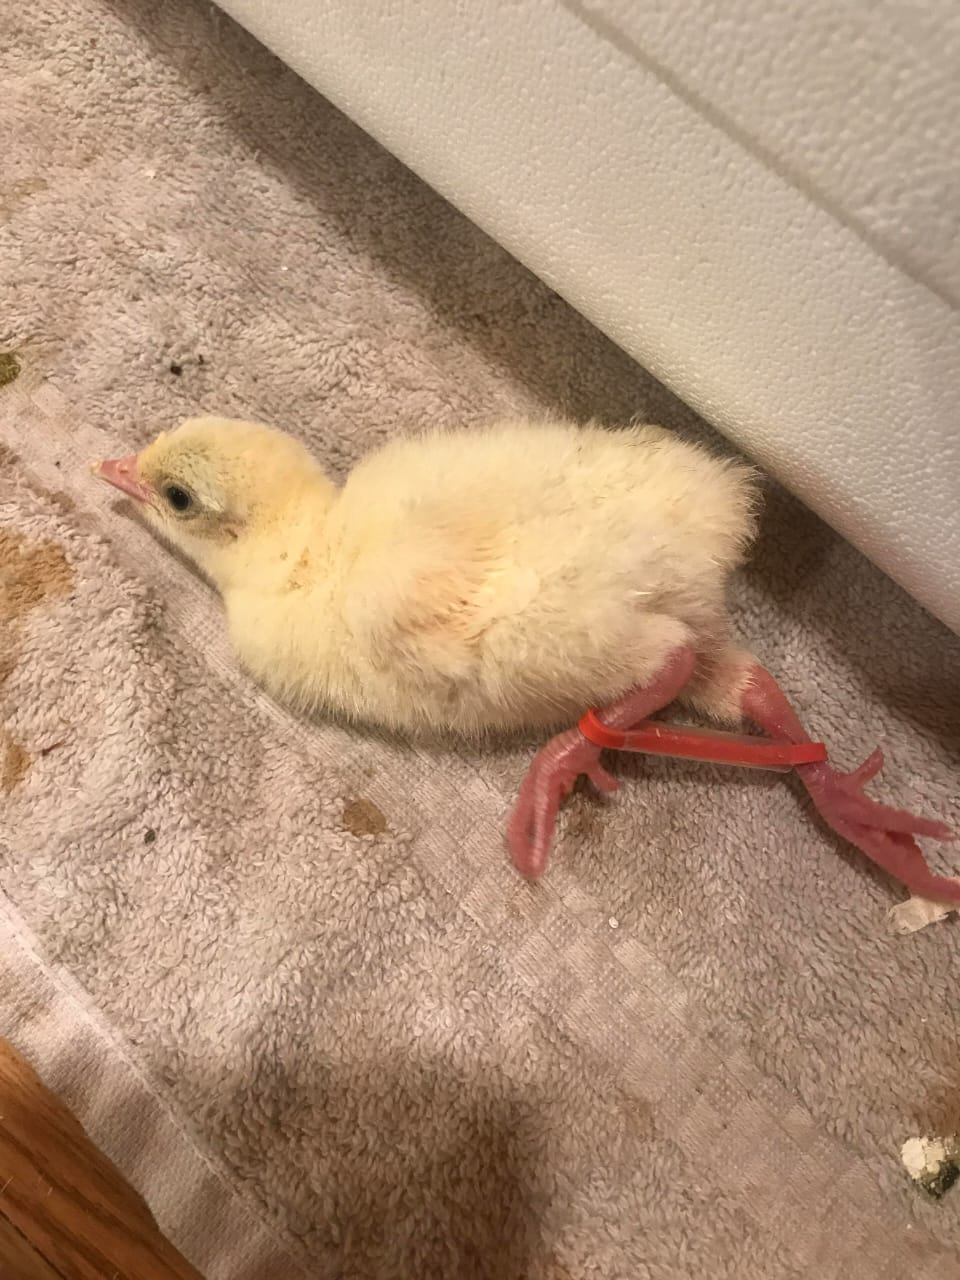Unhealthy: (71, 353, 960, 973)
